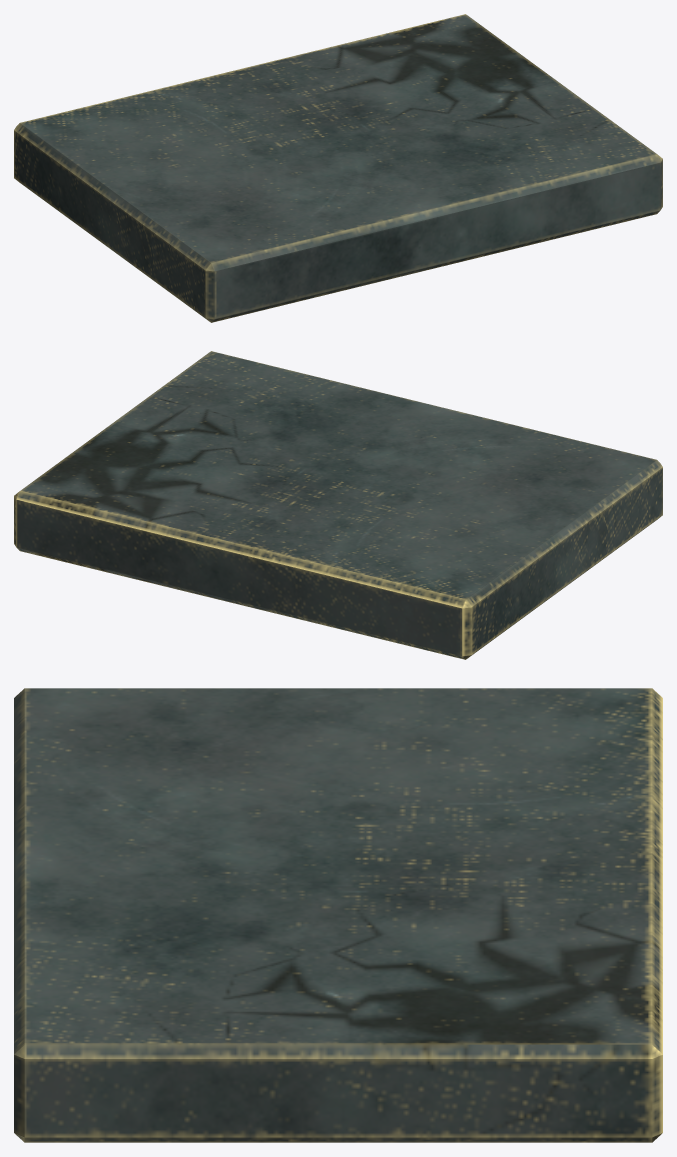
The model's file is Step_02_Art.fbx.
3 views of the same model, one above another, from view 1: azimuth 30°, elevation 25°; view 2: azimuth 150°, elevation 25°; view 3: azimuth 270°, elevation 25° (orthographic). The views are drawn at different scales.
Parts seen in each view (by area): view 1: Step_02; view 2: Step_02; view 3: Step_02.
Part boxes in pixels (box(x1,y1,x2,y2)): Step_02: box(14, 14, 662, 322); Step_02: box(14, 351, 662, 659); Step_02: box(14, 688, 662, 1142).
Bounding box in the file's own units: 200 × 25 × 150.
